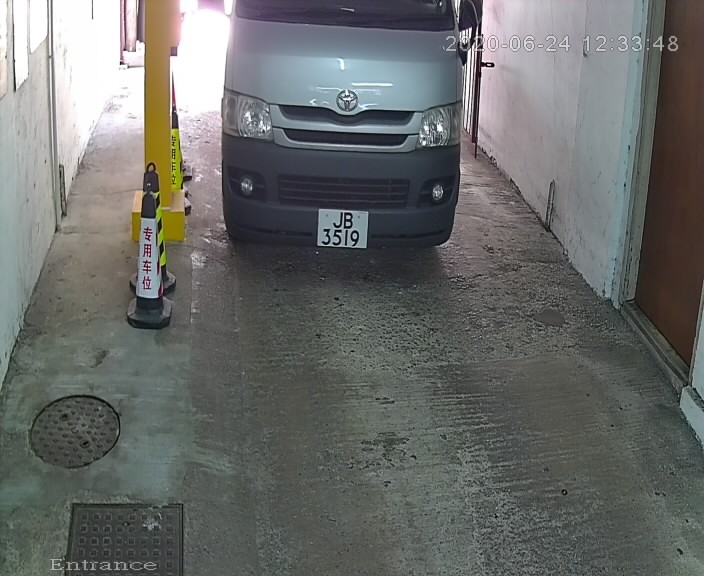Car: (206, 1, 496, 298)
License Plate: (312, 209, 374, 256)
